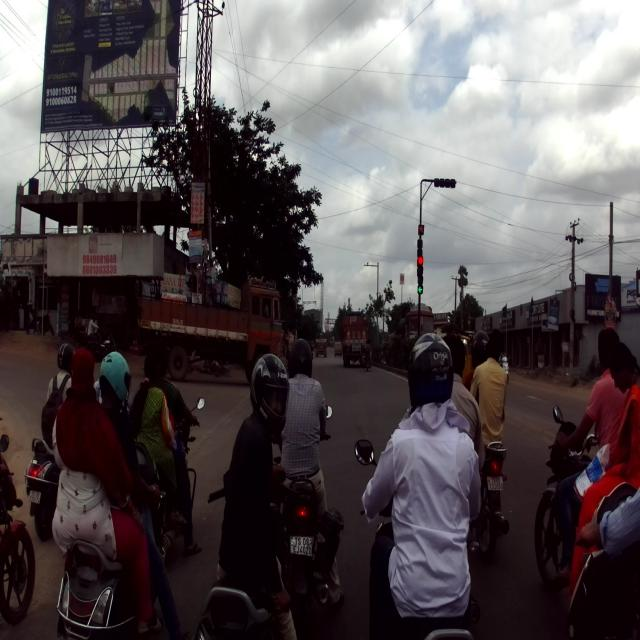motorcycle: (269, 406, 343, 640), (532, 403, 600, 596), (469, 438, 508, 566)
scooter: (56, 438, 166, 638)
truck: (135, 276, 284, 382)
